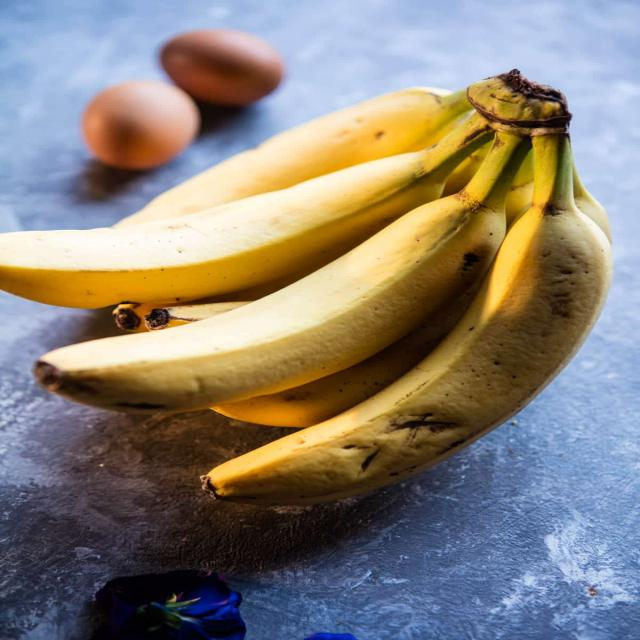banana: (0, 107, 640, 517)
egg: (79, 68, 206, 174), (160, 26, 306, 110)
